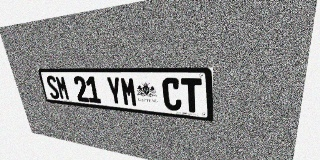1: (84, 76, 101, 103)
2: (73, 76, 89, 102)
C: (162, 78, 182, 111)
M: (120, 77, 138, 107), (55, 76, 70, 100)
S: (45, 75, 60, 99)
T: (181, 78, 202, 113)
Y: (105, 77, 123, 106)
